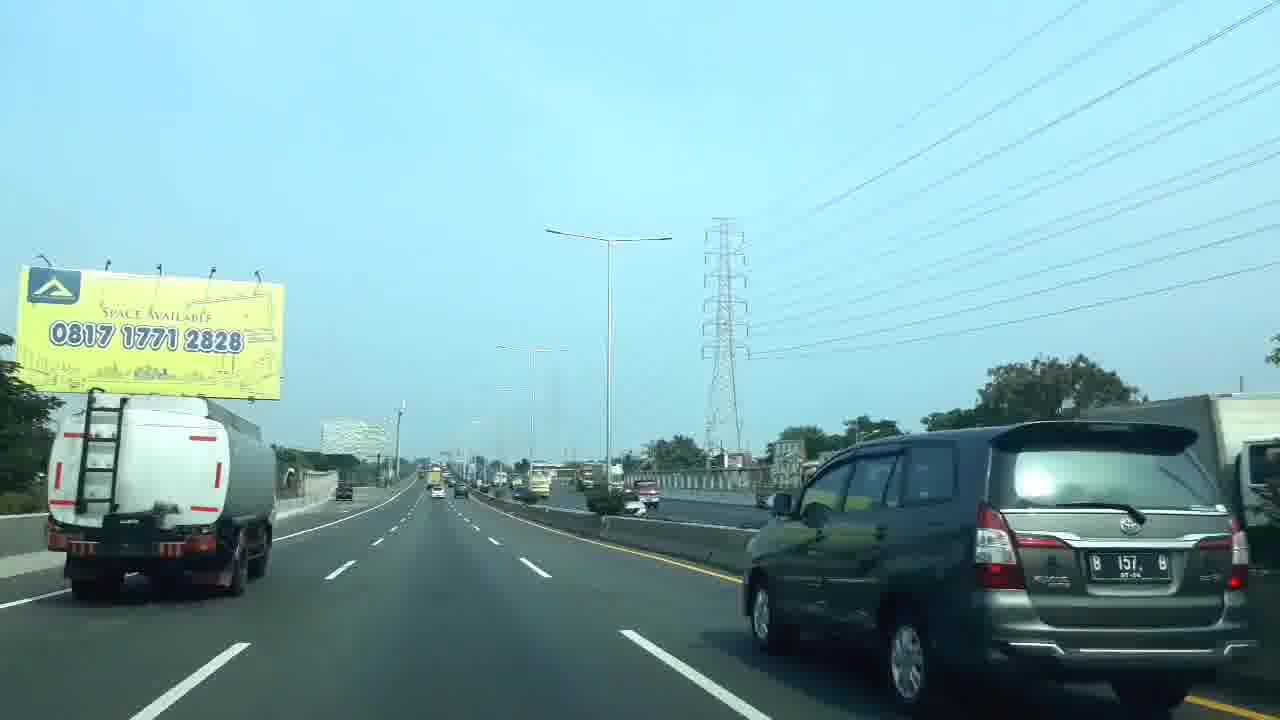plate_positive: (1085, 551, 1171, 584)
